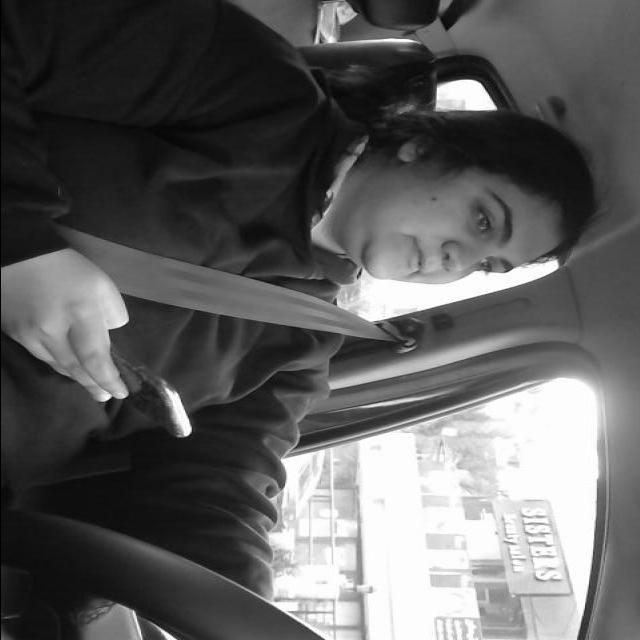mobile use: (102, 350, 194, 444)
